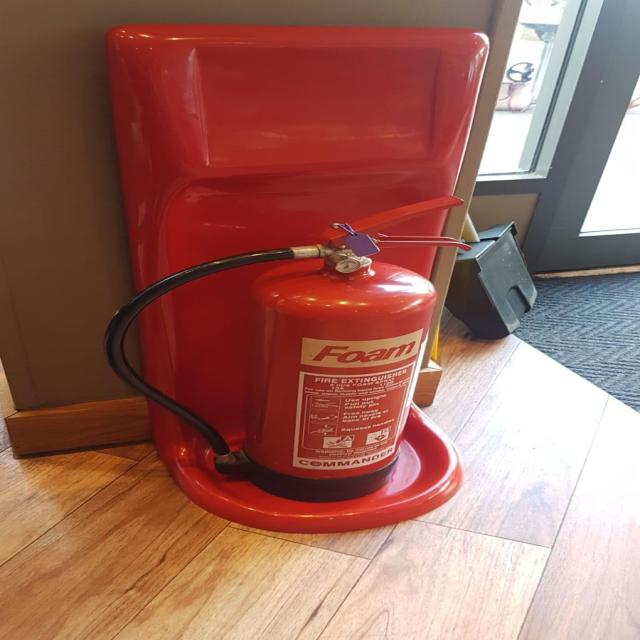fire_extinguisher: (99, 194, 476, 512)
